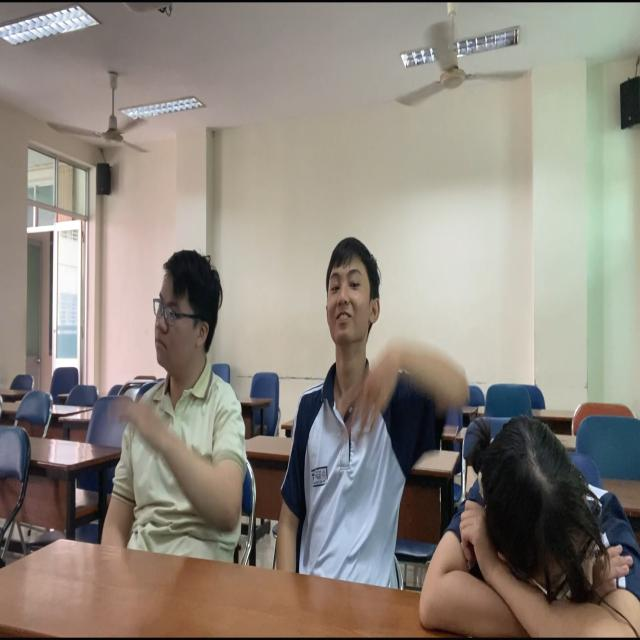sleep: (396, 371, 640, 640)
